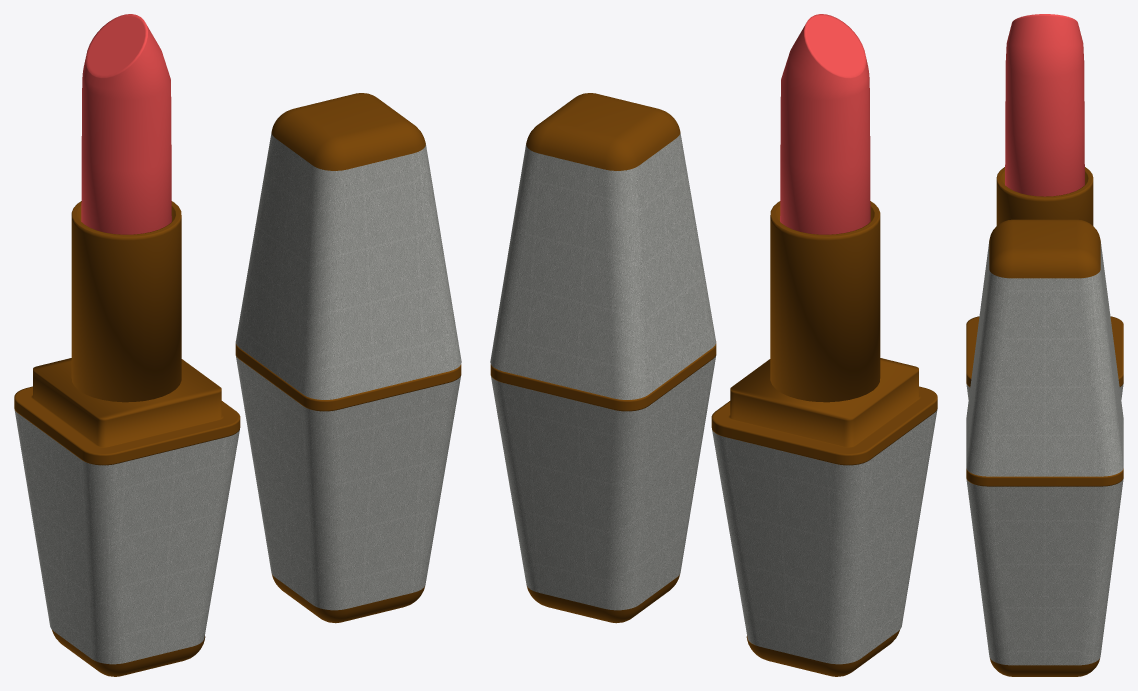
The model's file is lipstick.dae.
3 views of the same model, side by side, from view 1: azimuth 30°, elevation 25°; view 2: azimuth 150°, elevation 25°; view 3: azimuth 270°, elevation 25° (orthographic). The views are drawn at different scales.
Parts seen in each view (by area): view 1: Cube_004, Cube_003, Cube, Cylinder, Cylinder_001, Cube_005, Cube_000, Cube_002, Cube_001, Cube_006; view 2: Cube_004, Cube_003, Cube, Cylinder, Cylinder_001, Cube_005, Cube_000, Cube_002, Cube_001, Cube_006; view 3: Cube_004, Cube_003, Cylinder_001, Cube_000, Cylinder, Cube_002, Cube_005, Cube_001.
Boxes of the visible parts, x1=… form: Cube_004: x1=235, y1=132, x2=461, y2=399; Cube_003: x1=235, y1=355, x2=460, y2=610; Cube: x1=14, y1=409, x2=239, y2=664; Cylinder: x1=71, y1=201, x2=181, y2=402; Cylinder_001: x1=81, y1=14, x2=171, y2=234; Cube_005: x1=14, y1=358, x2=240, y2=465; Cube_000: x1=271, y1=93, x2=425, y2=170; Cube_002: x1=235, y1=341, x2=461, y2=411; Cube_001: x1=272, y1=574, x2=424, y2=623; Cube_006: x1=52, y1=630, x2=205, y2=676; Cube_004: x1=490, y1=132, x2=716, y2=399; Cube_003: x1=491, y1=355, x2=716, y2=610; Cube: x1=712, y1=409, x2=937, y2=664; Cylinder: x1=770, y1=201, x2=880, y2=402; Cylinder_001: x1=780, y1=14, x2=870, y2=234; Cube_005: x1=711, y1=358, x2=937, y2=465; Cube_000: x1=526, y1=93, x2=680, y2=170; Cube_002: x1=490, y1=341, x2=716, y2=411; Cube_001: x1=527, y1=574, x2=679, y2=623; Cube_006: x1=746, y1=630, x2=899, y2=676; Cube_004: x1=966, y1=241, x2=1123, y2=476; Cube_003: x1=966, y1=478, x2=1123, y2=665; Cylinder_001: x1=1005, y1=14, x2=1084, y2=196; Cube_000: x1=989, y1=219, x2=1100, y2=278; Cylinder: x1=996, y1=167, x2=1093, y2=225; Cube_002: x1=966, y1=468, x2=1123, y2=486; Cube_005: x1=966, y1=316, x2=1123, y2=386; Cube_001: x1=990, y1=658, x2=1099, y2=676.
Bounding box in the file's own units: 0.2469 × 0.1016 × 0.3973.
Materials: 3 (1 with a texture image).
